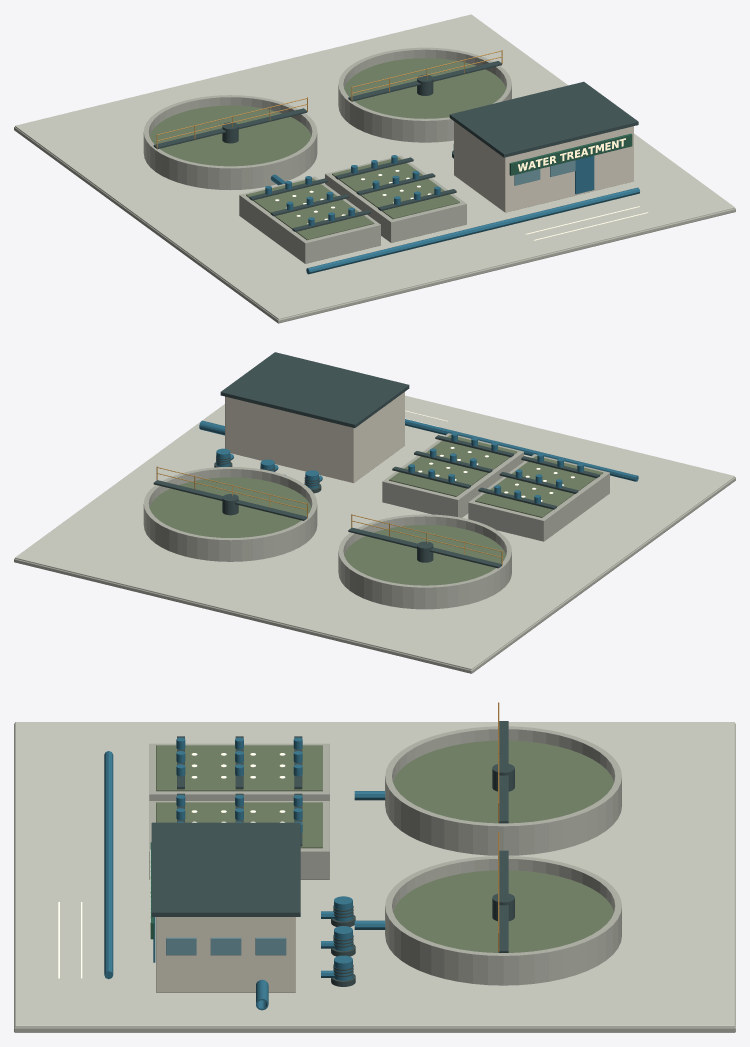
The model's file is water-sewage-treatment.glb.
The picture shows the model from 3 angles, top to bottom: view 1: azimuth 30°, elevation 25°; view 2: azimuth 150°, elevation 25°; view 3: azimuth 270°, elevation 25°; orthographic projection. The views are drawn at different scales.
Visible parts, largest first — view 1: Paving, ControlBuildingRoof, ControlBuilding, SettlingWater, SettlingWater.001, ClarifierBasin, ClarifierBasin.001, AerationTank, Lot, AerationTank.001, AerationWater.001, AerationWater (+6 smaller); view 2: Paving, ControlBuilding, ControlBuildingRoof, SettlingWater.001, SettlingWater, ClarifierBasin.001, ClarifierBasin, AerationTank, Lot, AerationTank.001, AerationWater, AerationWater.001 (+3 smaller); view 3: Paving, ControlBuildingRoof, SettlingWater.001, SettlingWater, ClarifierBasin.001, ClarifierBasin, ControlBuilding, AerationWater, Lot, AerationWater.001, AerationTank, ServicePipe.005 (+6 smaller).
Boxes of the visible parts, box(x1,y1,x2,y2) form: Paving: box(15, 14, 734, 319); ControlBuildingRoof: box(449, 81, 638, 157); ControlBuilding: box(454, 121, 633, 212); SettlingWater: box(149, 105, 311, 166); SettlingWater.001: box(344, 58, 505, 118); ClarifierBasin: box(143, 95, 317, 190); ClarifierBasin.001: box(338, 47, 511, 142); AerationTank: box(239, 176, 380, 263); Lot: box(14, 127, 735, 323); AerationTank.001: box(325, 155, 466, 242); AerationWater.001: box(332, 157, 459, 219); AerationWater: box(246, 178, 374, 240); Paving: box(15, 395, 734, 669); ControlBuilding: box(225, 392, 404, 483); ControlBuildingRoof: box(220, 352, 409, 427); SettlingWater.001: box(149, 477, 311, 537); SettlingWater: box(344, 525, 505, 585); ClarifierBasin.001: box(143, 467, 317, 561); ClarifierBasin: box(338, 514, 511, 609); AerationTank: box(468, 454, 609, 541); Lot: box(14, 477, 735, 673); AerationTank.001: box(382, 433, 523, 517); AerationWater: box(475, 456, 603, 517); AerationWater.001: box(389, 435, 517, 496); Paving: box(15, 722, 734, 1027); ControlBuildingRoof: box(151, 822, 300, 916); SettlingWater.001: box(393, 870, 613, 952); SettlingWater: box(393, 740, 613, 823); ClarifierBasin.001: box(385, 856, 621, 985); ClarifierBasin: box(385, 726, 621, 855); ControlBuilding: box(156, 917, 295, 992); AerationWater: box(156, 745, 322, 791); Lot: box(14, 723, 735, 1032); AerationWater.001: box(156, 802, 322, 848); AerationTank: box(149, 743, 329, 800); ServicePipe.005: box(104, 751, 113, 979).
Bounding box in the file's own units: 32 × 4.36 × 32.
